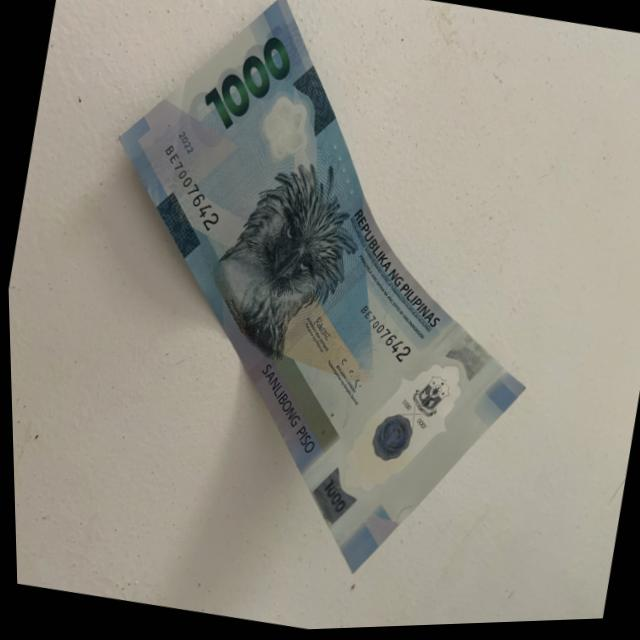clear_window: (285, 296, 514, 569)
eagle: (201, 157, 365, 369)
sampaguita: (236, 70, 324, 186)
security_thread: (241, 217, 398, 409)
serial_number: (145, 134, 238, 241), (344, 306, 424, 376)
